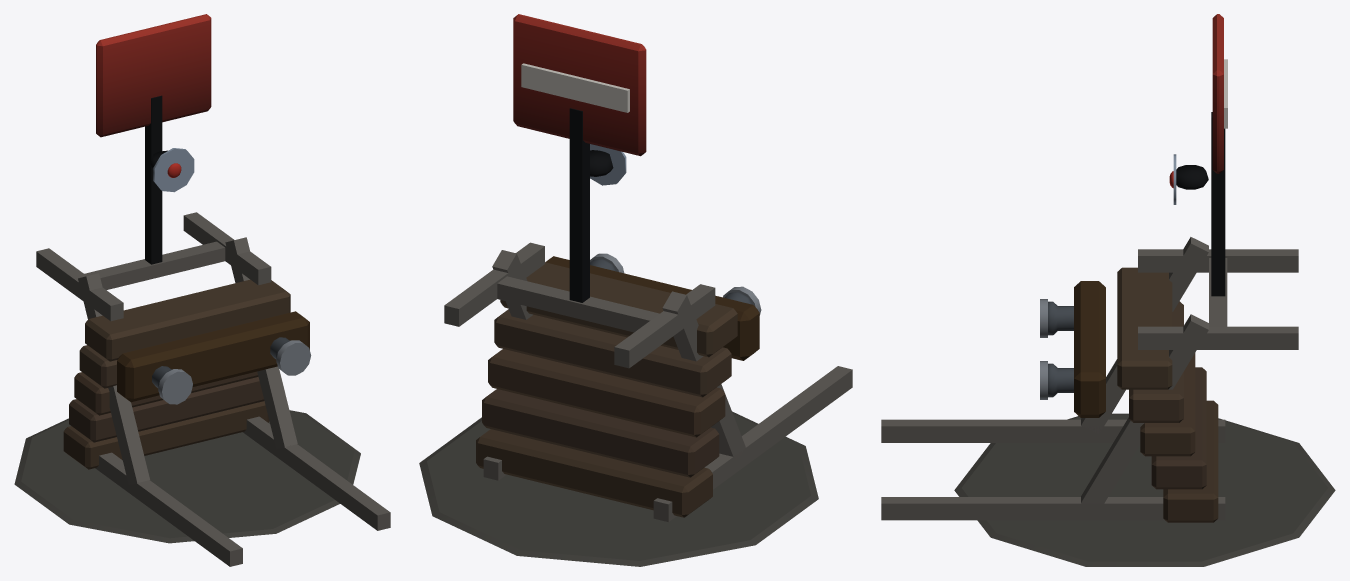
Rendered from buffer-stop.glb.
3 views of the same model, side by side, from view 1: azimuth 30°, elevation 25°; view 2: azimuth 150°, elevation 25°; view 3: azimuth 270°, elevation 25° (orthographic). The views are drawn at different scales.
Visible parts, largest first — view 1: buffer_stop; view 2: buffer_stop; view 3: buffer_stop.
Part boxes in pixels (box(x1,y1,x2,y2)): buffer_stop: box(14, 14, 390, 566); buffer_stop: box(419, 14, 852, 566); buffer_stop: box(881, 14, 1335, 566).
Size of the model in its own units: 1.58 by 2.16 by 1.98.
